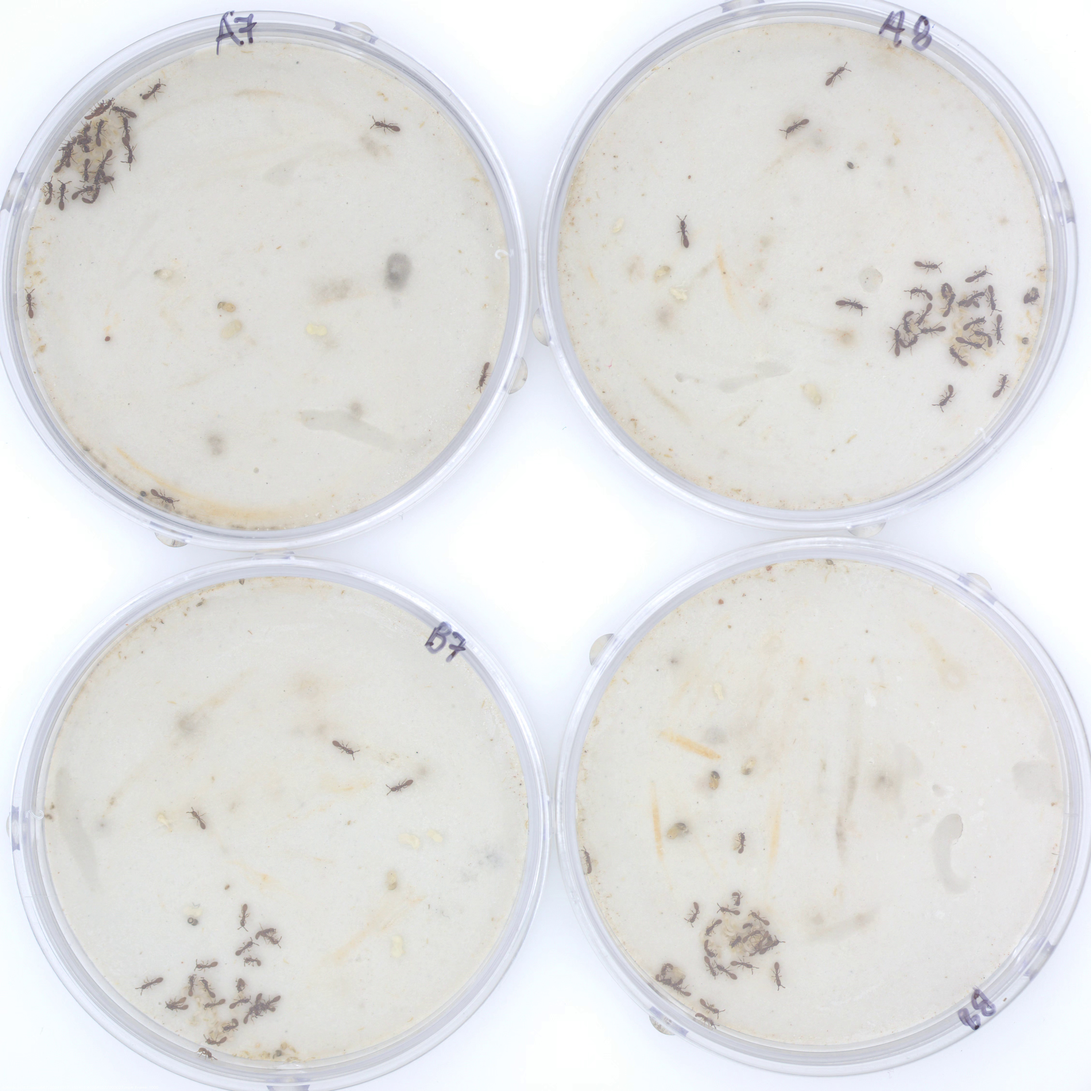brood: (67, 106, 131, 195), (933, 286, 996, 367), (699, 904, 771, 973), (181, 975, 236, 1044), (900, 316, 930, 343)
